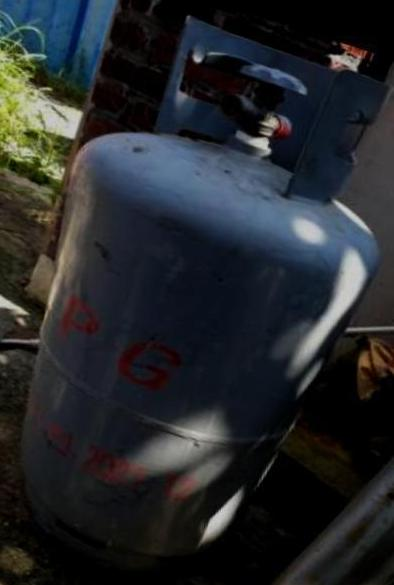cylinder: (1, 1, 394, 585)
